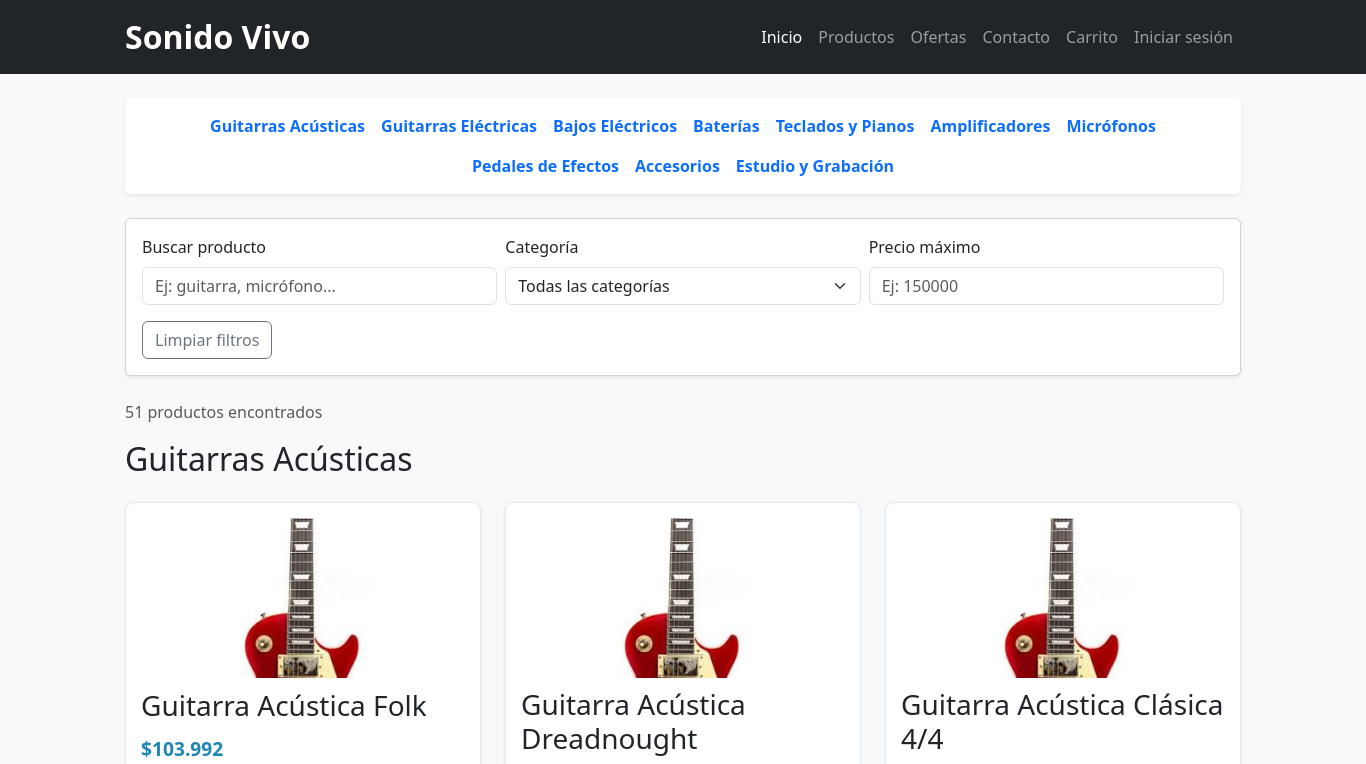
filtros de búsqueda › muestra solo la categoría elegida
This screenshot has width=1366, height=764.
Select "Micrófonos" in the dropdown labelled "Categoría" at (683, 286), box [505,267,861,305]
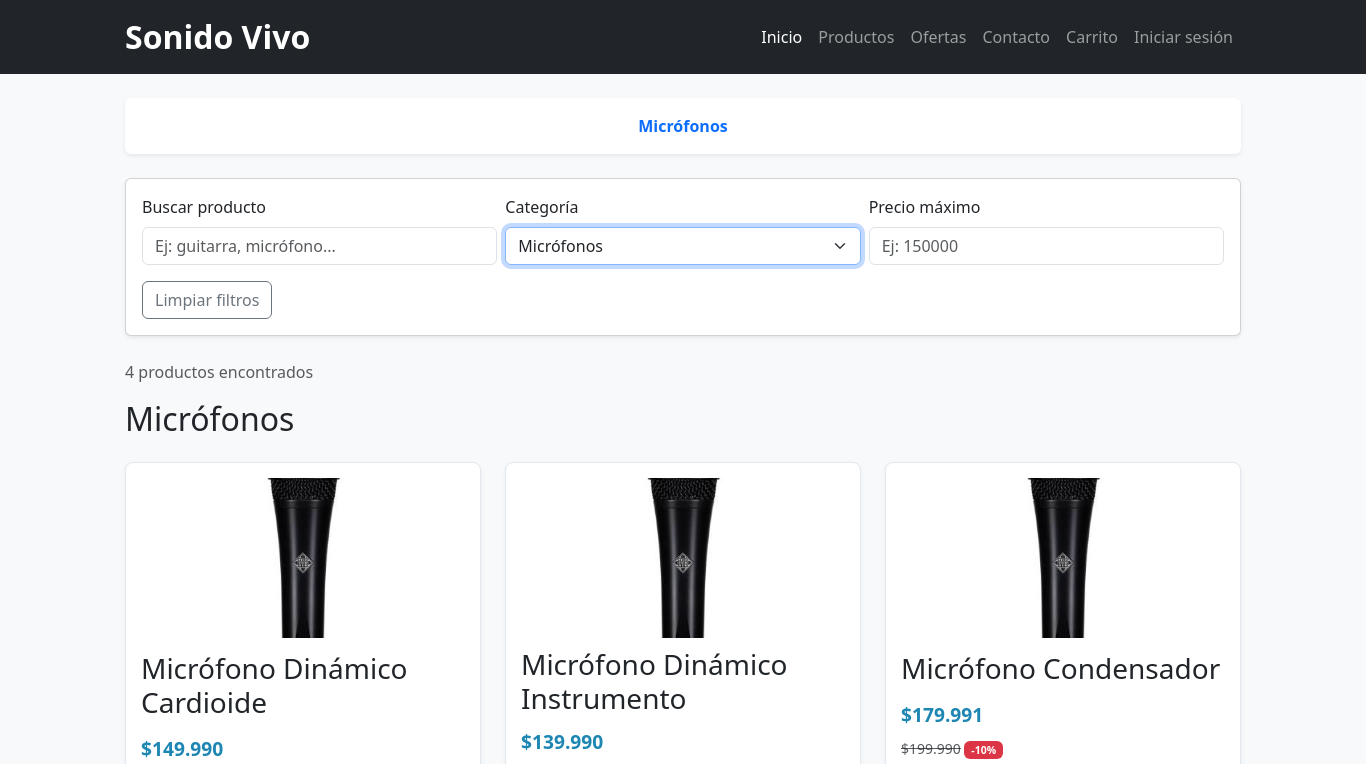
Expected: the heading "Micrófonos" is shown, [125,397,294,440]
Expected: the link "Guitarras Acústicas" is gone
Expected: the message reads "4 productos encontrados", [125,361,313,383]
